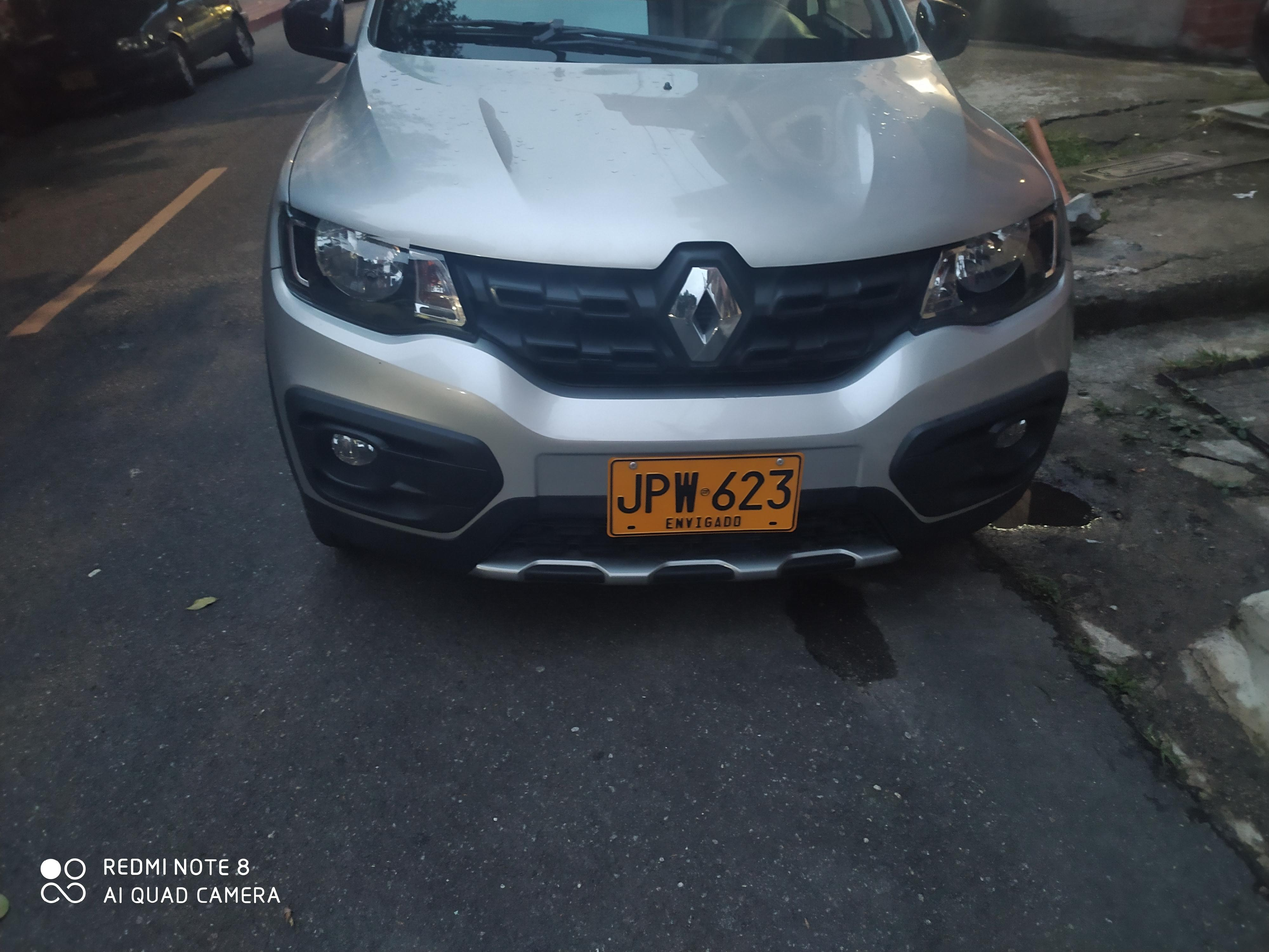placa: (597, 455, 801, 539)
